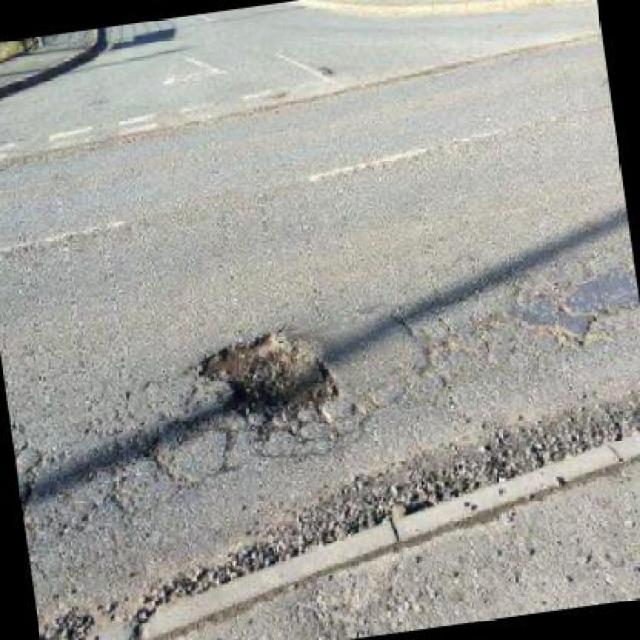pothole: (190, 318, 352, 444)
